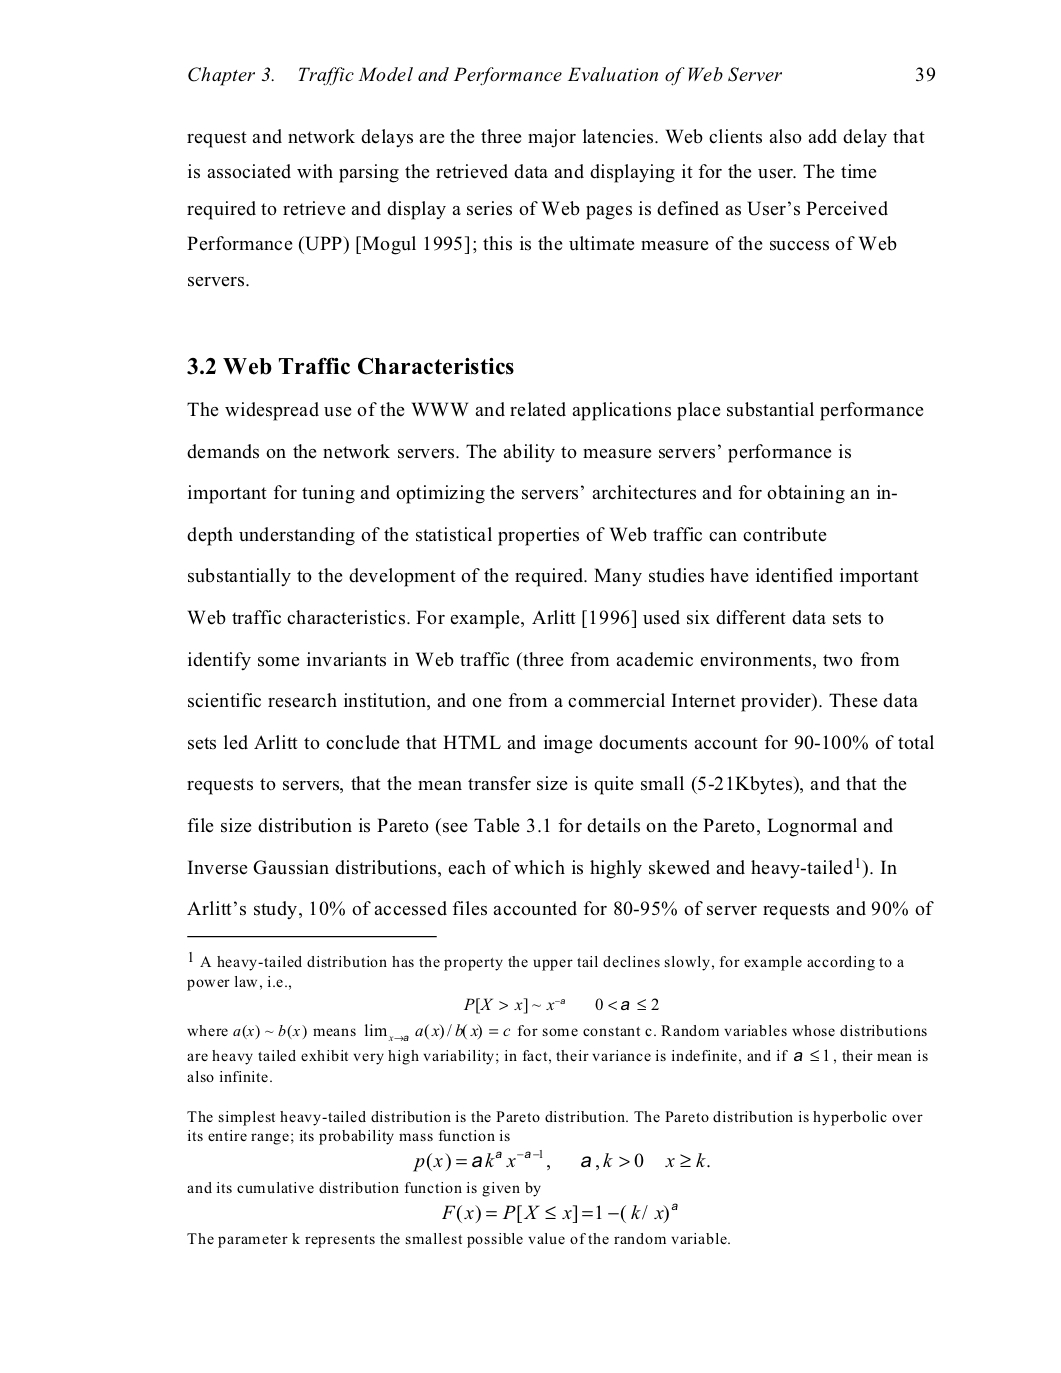figure: (187, 935, 436, 938)
formula: (413, 1148, 709, 1172), (442, 1202, 676, 1223), (463, 997, 658, 1014)
